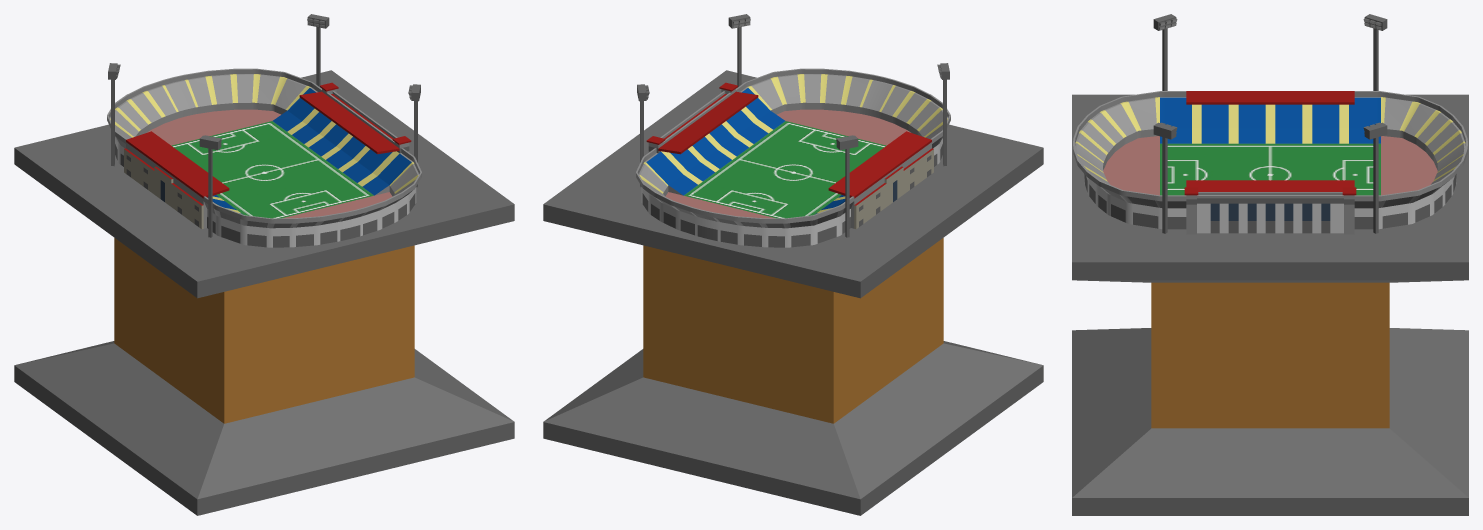
File: FSt_Ita_003.FBX
The picture shows the model from 3 angles, left to right: view 1: azimuth 30°, elevation 25°; view 2: azimuth 150°, elevation 25°; view 3: azimuth 270°, elevation 25°; orthographic projection. The views are drawn at different scales.
Parts seen in each view (by area): view 1: FSt_Ita_003; view 2: FSt_Ita_003; view 3: FSt_Ita_003.
Boxes of the visible parts, bbox=[...] form: FSt_Ita_003: bbox=[14, 14, 514, 515]; FSt_Ita_003: bbox=[543, 14, 1043, 515]; FSt_Ita_003: bbox=[1072, 14, 1468, 515].
Bounding box in the file's own units: 1000 × 1000 × 1000.
